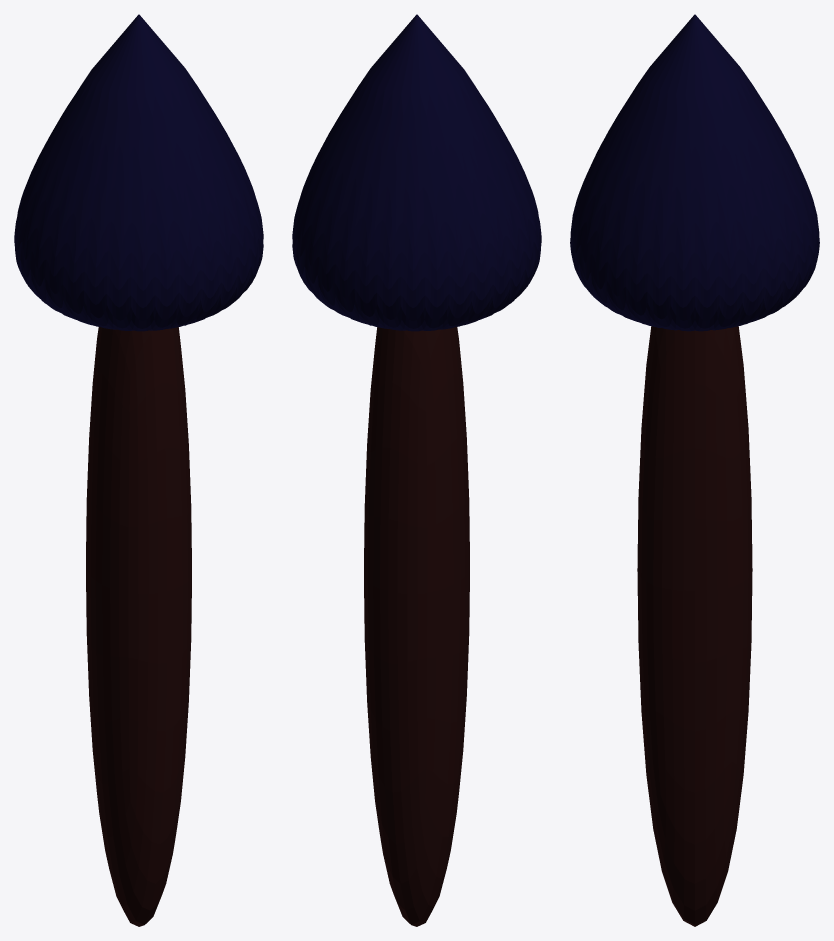
The model's file is Pincel.fbx.
3 renders of one model, left to right at view 1: azimuth 30°, elevation 25°; view 2: azimuth 150°, elevation 25°; view 3: azimuth 270°, elevation 25°, orthographic.
Visible parts, largest first — view 1: Cone; view 2: Cone; view 3: Cone.
Part boxes in pixels (bbox=[...]): Cone: bbox=[14, 14, 263, 926]; Cone: bbox=[292, 14, 541, 926]; Cone: bbox=[570, 14, 819, 926].
Bounding box in the file's own units: 128 × 128 × 516.
